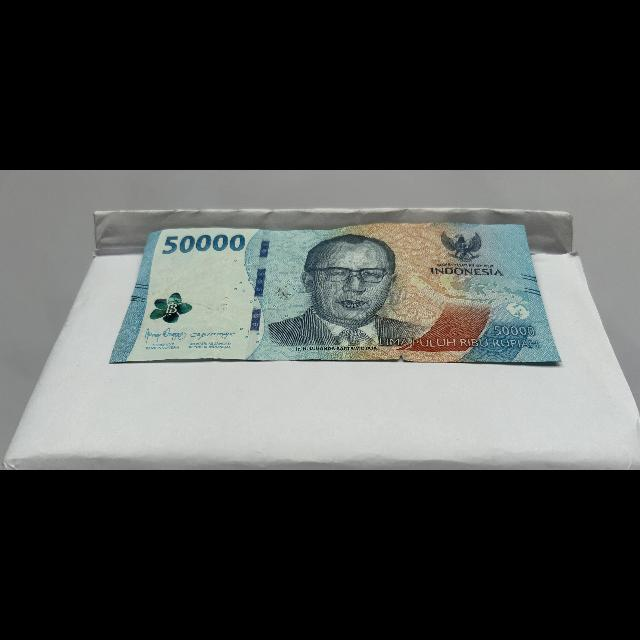Asli-50k: (104, 221, 566, 366)
Tinta-Asli-50k: (145, 290, 199, 326)
